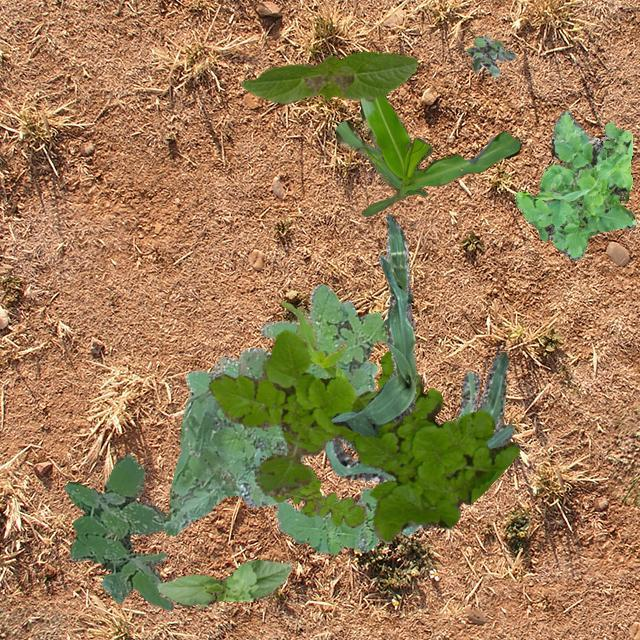crop: (323, 343, 512, 534), (334, 94, 520, 215), (331, 213, 416, 434), (240, 49, 417, 102), (156, 558, 290, 606), (280, 300, 350, 384), (368, 478, 396, 498)
weed: (207, 329, 518, 542), (162, 282, 388, 534), (514, 110, 636, 260), (64, 454, 172, 610), (274, 486, 378, 552), (272, 466, 366, 526), (466, 34, 514, 76)
